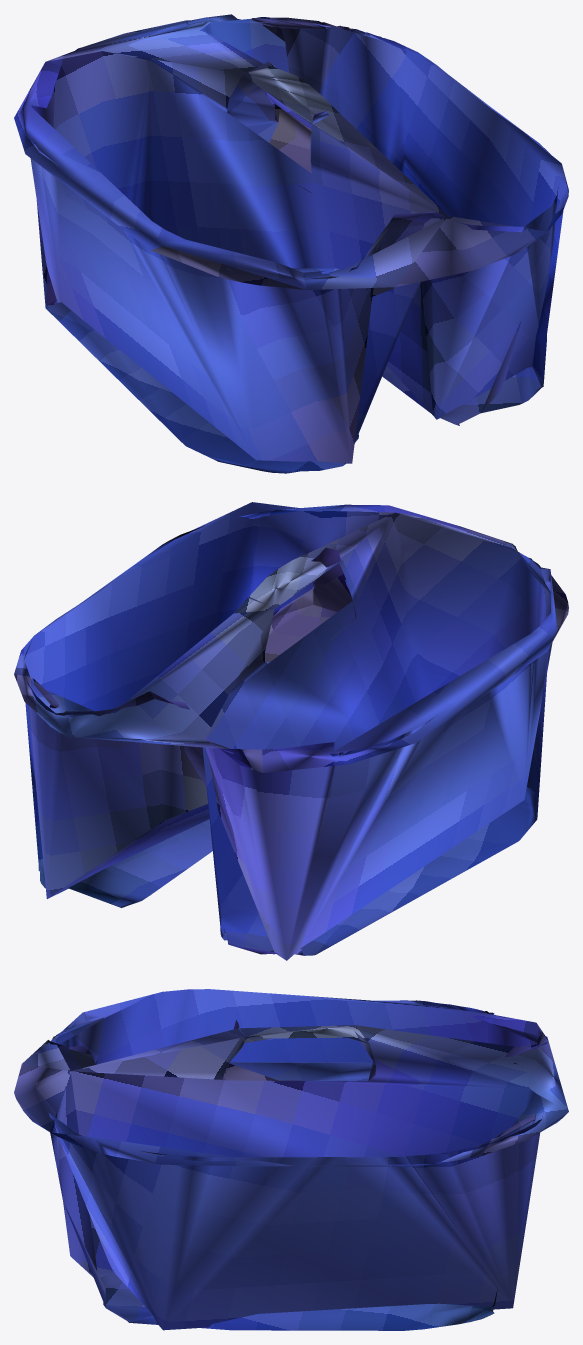
Rendered from Sterilite_Caddy_Blue_Sky_17_58_x_12_58_x_9_14-low.glb.
The picture shows the model from 3 angles, top to bottom: view 1: azimuth 30°, elevation 25°; view 2: azimuth 150°, elevation 25°; view 3: azimuth 270°, elevation 25°; orthographic projection. The views are drawn at different scales.
Visible parts, largest first — view 1: Sterilite_Caddy_Blue_Sky_17_58_x_12_58_x_9_14; view 2: Sterilite_Caddy_Blue_Sky_17_58_x_12_58_x_9_14; view 3: Sterilite_Caddy_Blue_Sky_17_58_x_12_58_x_9_14.
Part boxes in pixels (x1,y1,x2,y2): Sterilite_Caddy_Blue_Sky_17_58_x_12_58_x_9_14: [14, 14, 568, 473]; Sterilite_Caddy_Blue_Sky_17_58_x_12_58_x_9_14: [14, 502, 568, 960]; Sterilite_Caddy_Blue_Sky_17_58_x_12_58_x_9_14: [14, 989, 568, 1330].
Size of the model in its own units: 0.3135 by 0.2065 by 0.4363.
1 material, 1 textured.
